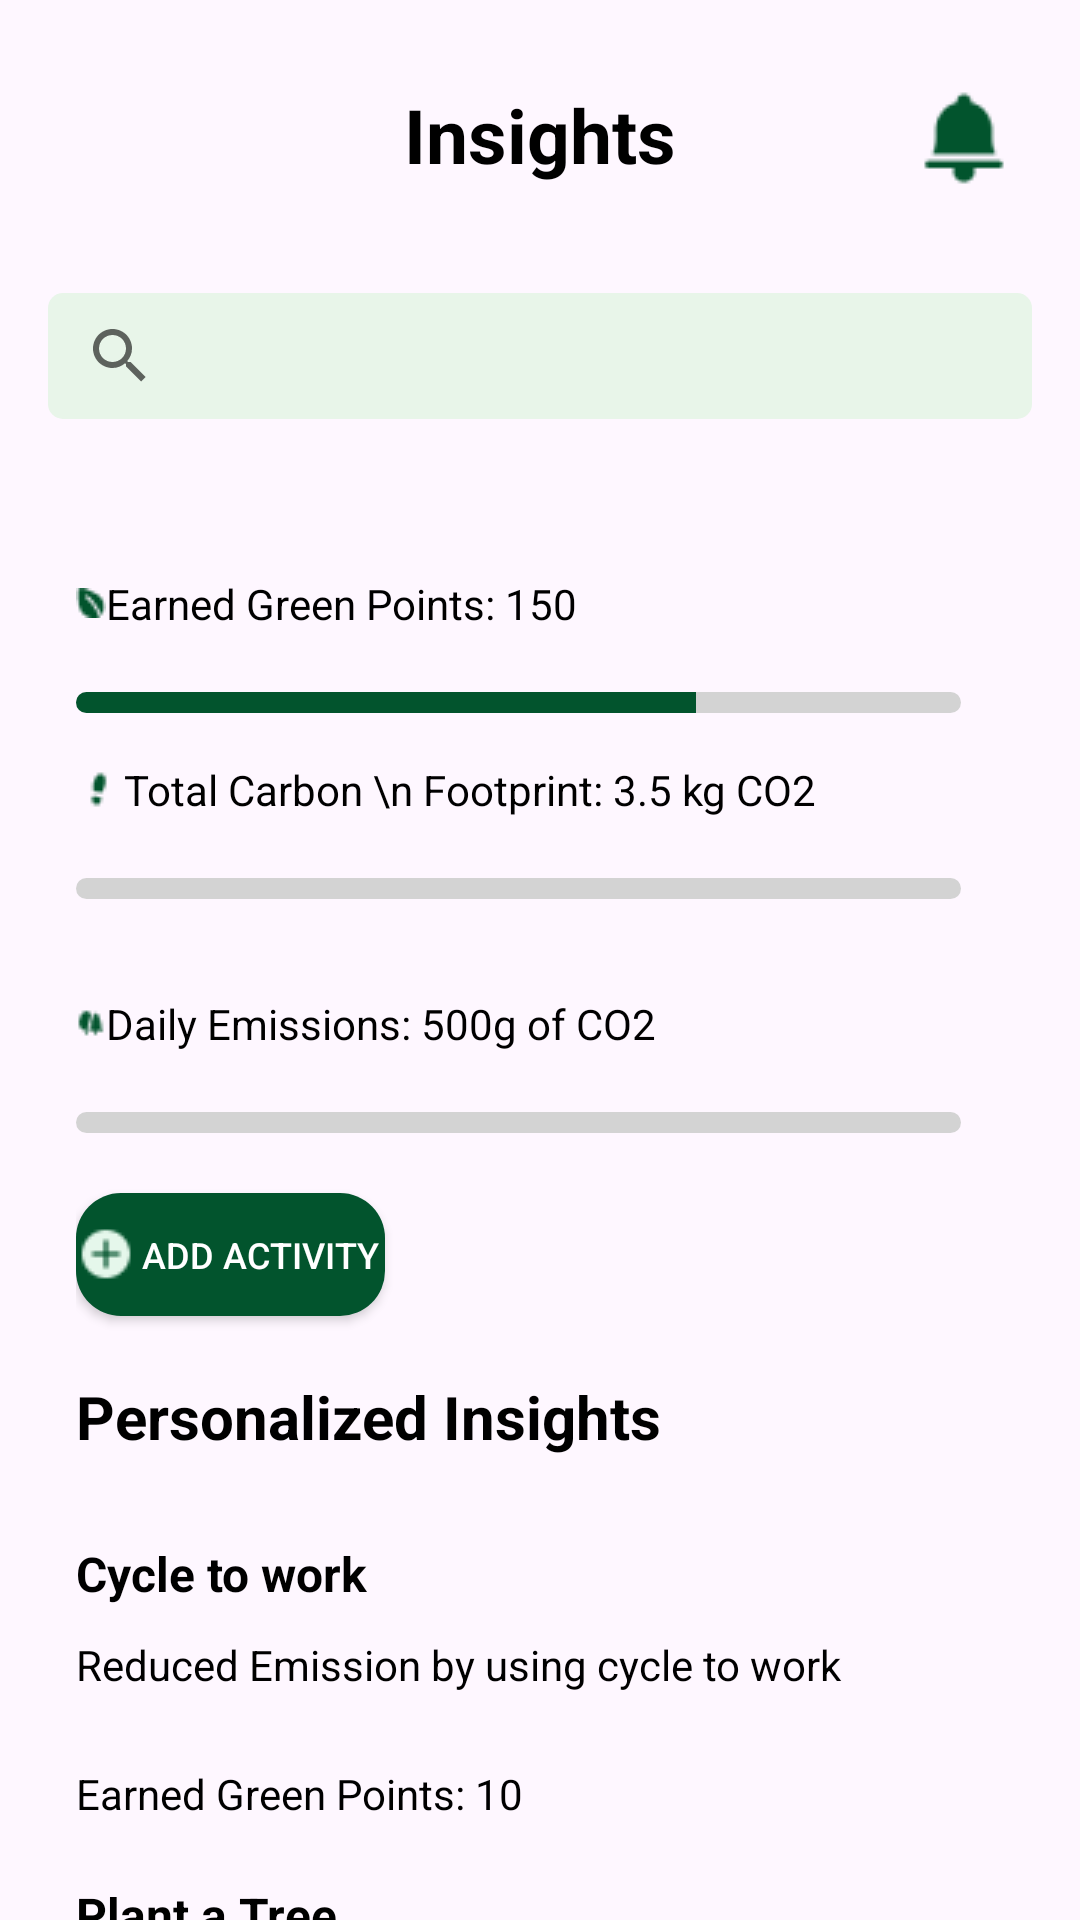

Icon click points for this 1080 × 1920 phone screenshot, format point (x, y):
dorbell: point (964, 138)
